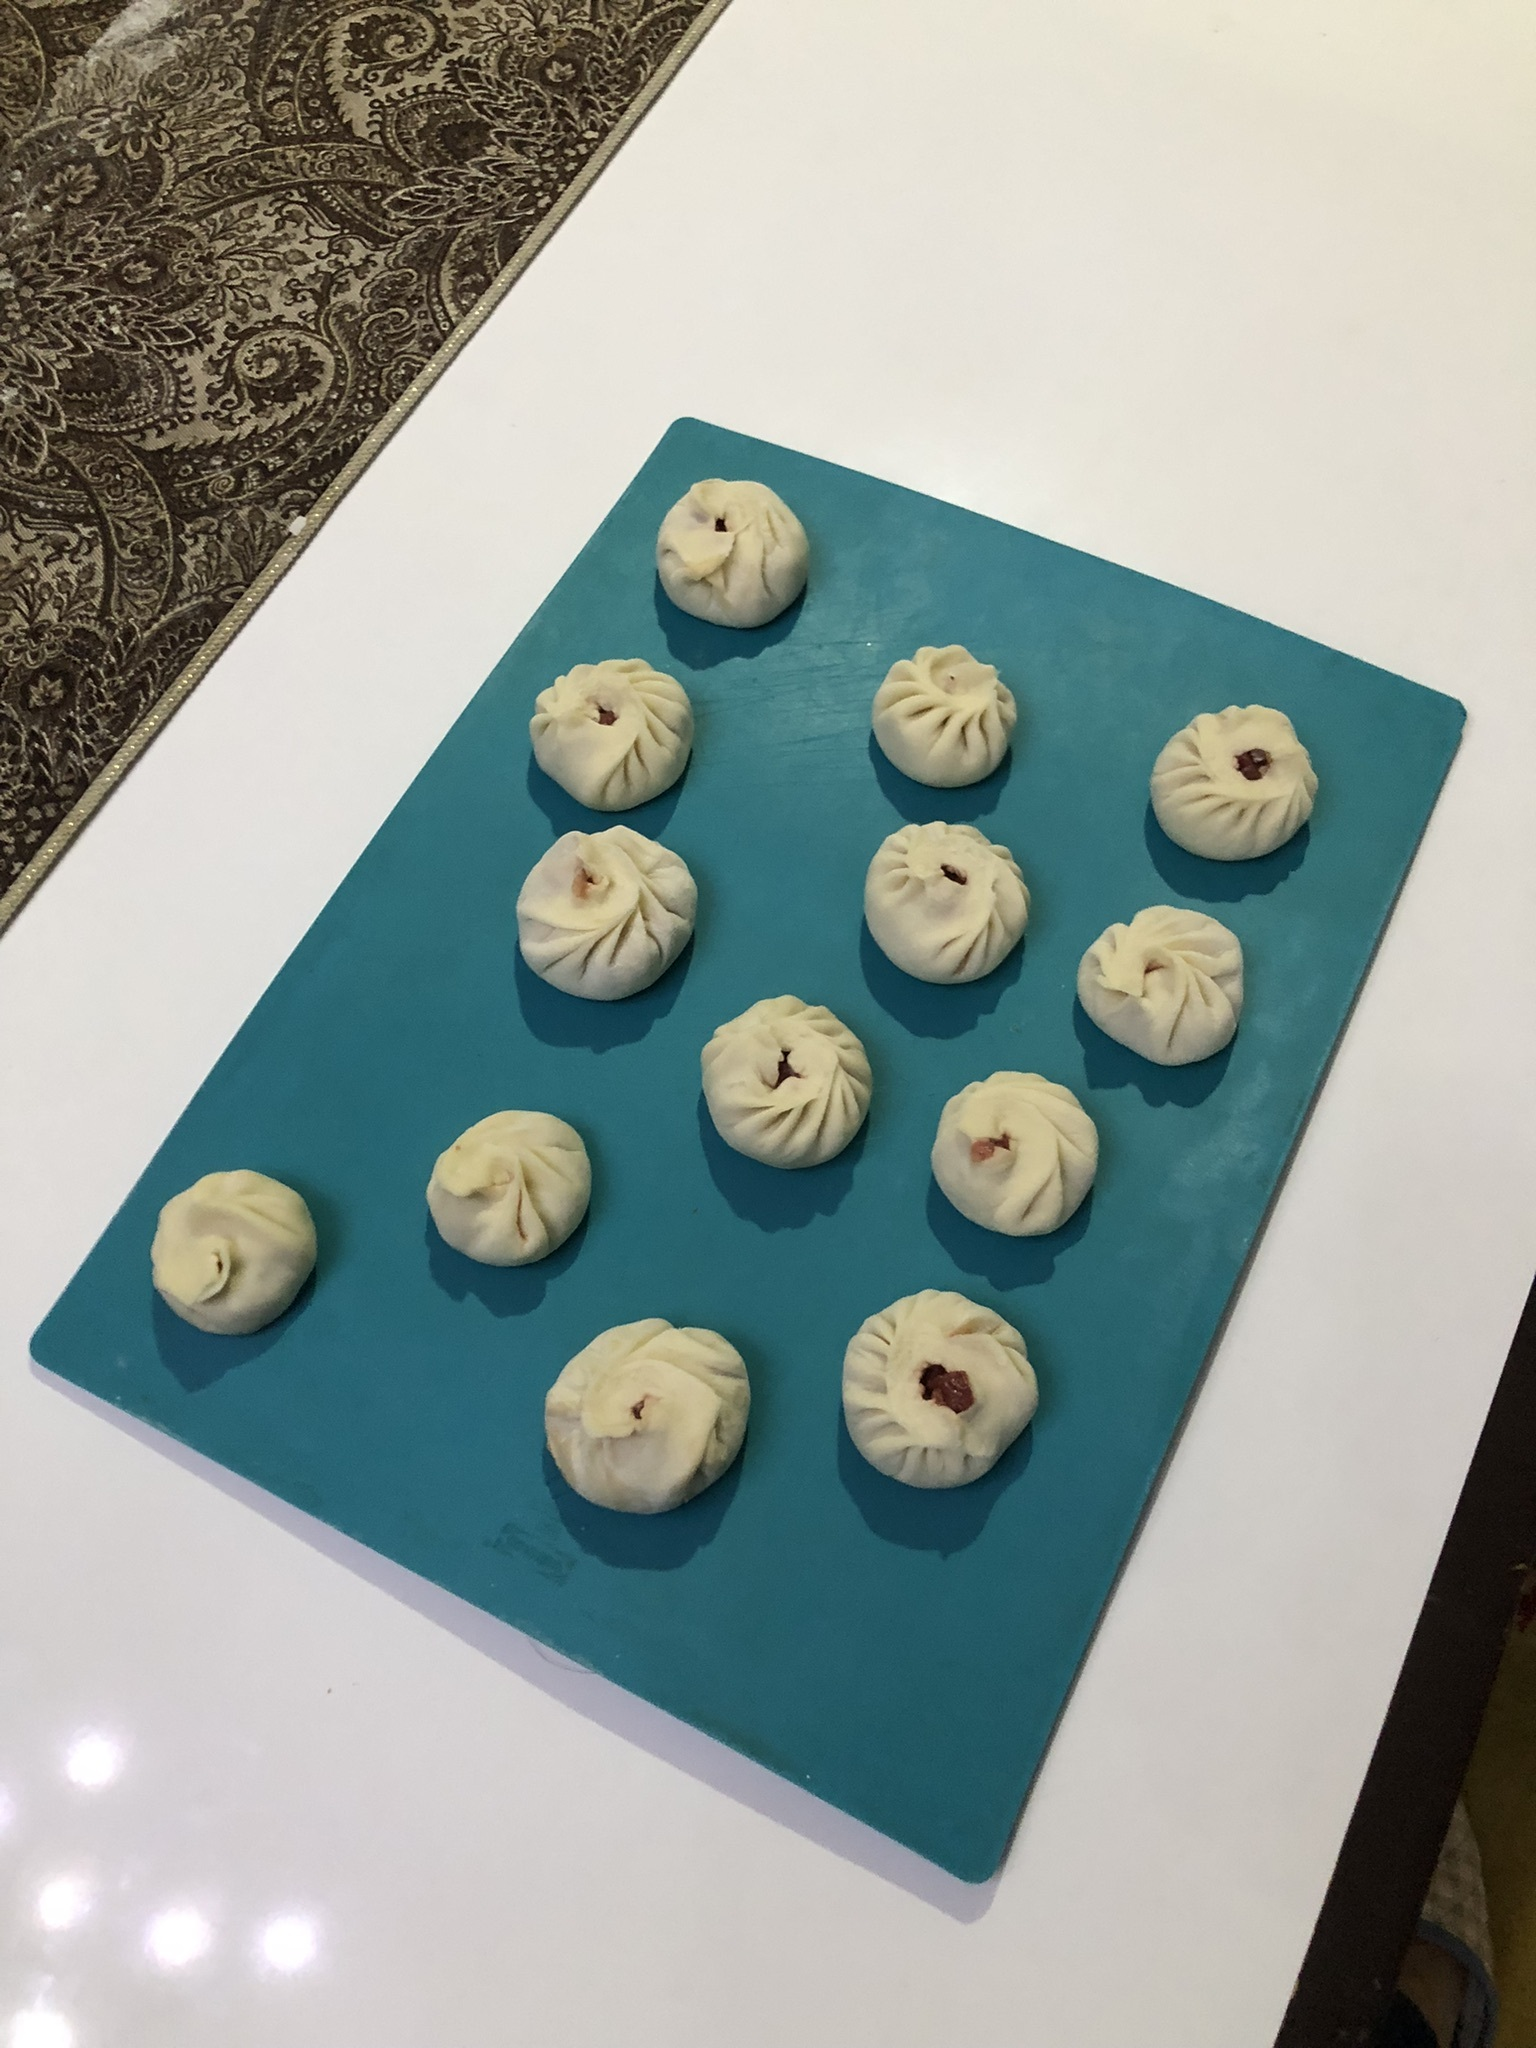buuz: (536, 1309, 765, 1529), (833, 1280, 1046, 1506), (916, 1055, 1110, 1251), (144, 1161, 340, 1355), (510, 822, 707, 1013), (695, 989, 886, 1180), (1133, 693, 1328, 872), (1066, 893, 1257, 1074), (857, 813, 1039, 997), (419, 1100, 603, 1276), (645, 464, 821, 640), (516, 651, 703, 816), (857, 635, 1033, 798)
